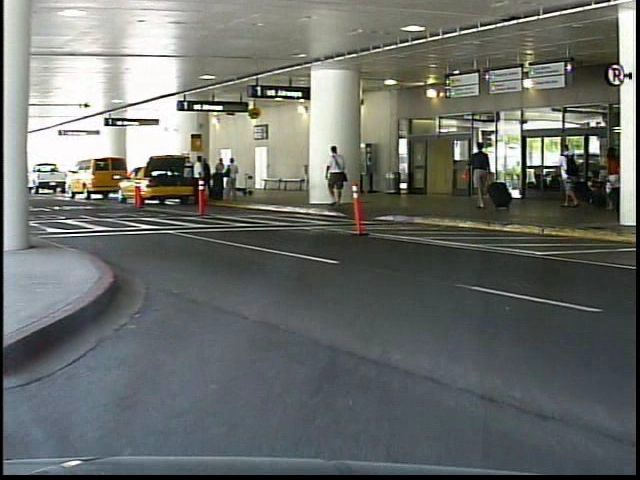person: (553, 138, 590, 218), (468, 139, 498, 214), (325, 144, 356, 210)
